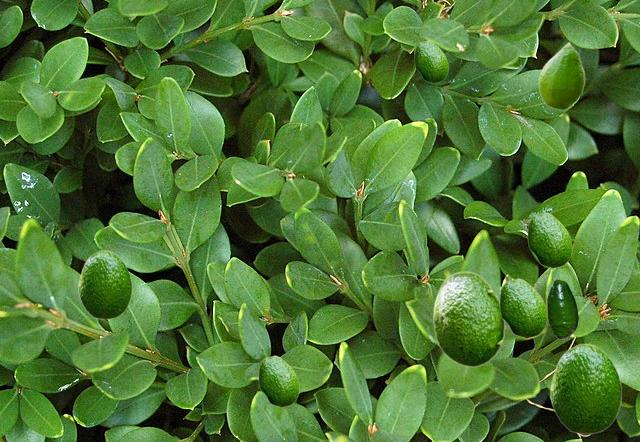avocado: (432, 271, 504, 366), (550, 343, 621, 433), (78, 250, 131, 318), (538, 41, 584, 109), (499, 278, 546, 337), (527, 212, 571, 267), (258, 355, 298, 406), (547, 279, 577, 338), (414, 40, 447, 82)
